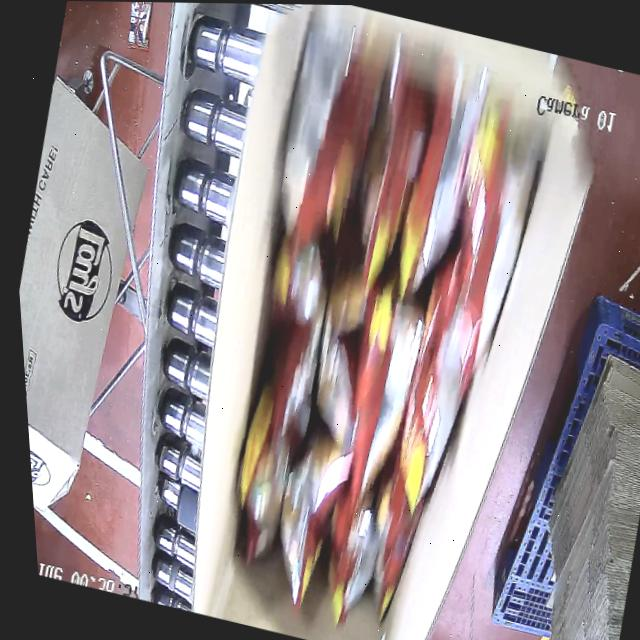MASALA: (172, 3, 582, 640)
